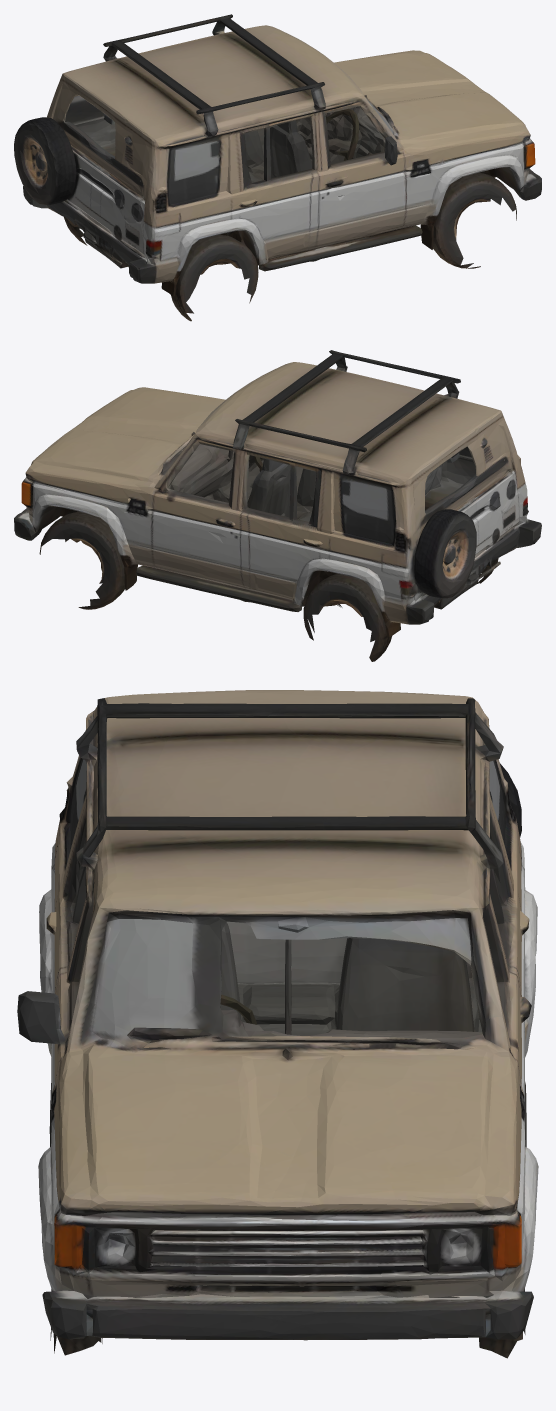
Rendered from body.glb.
3 views of the same model, one above another, from view 1: azimuth 30°, elevation 25°; view 2: azimuth 150°, elevation 25°; view 3: azimuth 270°, elevation 25° (orthographic). The views are drawn at different scales.
Visible parts, largest first — view 1: tripo_node_f1867860-a998-4d49-bcaf-81aab70165e7; view 2: tripo_node_f1867860-a998-4d49-bcaf-81aab70165e7; view 3: tripo_node_f1867860-a998-4d49-bcaf-81aab70165e7.
Boxes of the visible parts, x1,y1,x2,y2 form: tripo_node_f1867860-a998-4d49-bcaf-81aab70165e7: (14, 14, 541, 321); tripo_node_f1867860-a998-4d49-bcaf-81aab70165e7: (14, 350, 541, 661); tripo_node_f1867860-a998-4d49-bcaf-81aab70165e7: (17, 690, 538, 1358).
Bounding box in the file's own units: 4.6 × 2.25 × 2.48.
1 material, 1 textured.
